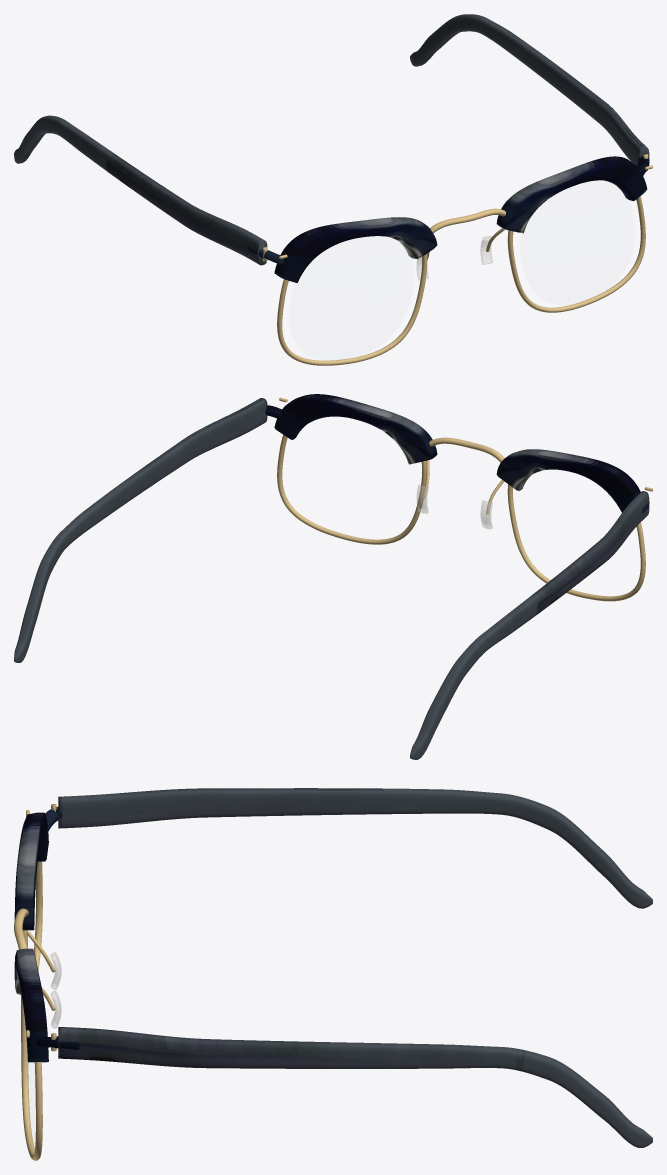
The model's file is prod-r12.glb.
The picture shows the model from 3 angles, top to bottom: view 1: azimuth 30°, elevation 25°; view 2: azimuth 150°, elevation 25°; view 3: azimuth 270°, elevation 25°; orthographic projection. The views are drawn at different scales.
Parts seen in each view (by area): view 1: Fitted temple exterior -1, Fitted temple exterior 1, Broad upper club brow -1, Broad upper club brow 1, Fine metal full rim -1, Fine metal full rim 1, Saddle nose bridge; view 2: Fitted temple exterior 1, Fitted temple exterior -1, Broad upper club brow 1, Broad upper club brow -1, Fine metal full rim 1, Fine metal full rim -1, Saddle nose bridge; view 3: Fitted temple exterior -1, Fitted temple exterior 1, Broad upper club brow -1, Broad upper club brow 1, Fine metal full rim 1, Fine metal full rim -1.
Part boxes in pixels (left/top/right/bottom): Fitted temple exterior -1: left=14, top=115, right=267, bottom=265; Fitted temple exterior 1: left=410, top=14, right=649, bottom=171; Broad upper club brow -1: left=274, top=217, right=437, bottom=282; Broad upper club brow 1: left=496, top=156, right=647, bottom=233; Fine metal full rim -1: left=277, top=254, right=427, bottom=365; Fine metal full rim 1: left=507, top=196, right=645, bottom=312; Saddle nose bridge: left=430, top=208, right=505, bottom=233; Fitted temple exterior 1: left=14, top=398, right=267, bottom=662; Fitted temple exterior -1: left=410, top=491, right=649, bottom=759; Broad upper club brow 1: left=274, top=394, right=437, bottom=464; Broad upper club brow -1: left=496, top=449, right=640, bottom=512; Fine metal full rim 1: left=277, top=434, right=426, bottom=544; Fine metal full rim -1: left=507, top=484, right=645, bottom=601; Saddle nose bridge: left=429, top=437, right=504, bottom=462; Fitted temple exterior -1: left=58, top=788, right=652, bottom=908; Fitted temple exterior 1: left=58, top=1027, right=652, bottom=1147; Broad upper club brow -1: left=14, top=812, right=48, bottom=930; Broad upper club brow 1: left=14, top=948, right=48, bottom=1062; Fine metal full rim 1: left=21, top=995, right=42, bottom=1160; Fine metal full rim -1: left=23, top=861, right=42, bottom=970.
Bounding box in the file's own units: 0.1418 × 0.0438 × 0.1472.
7 materials, 3 textured.
